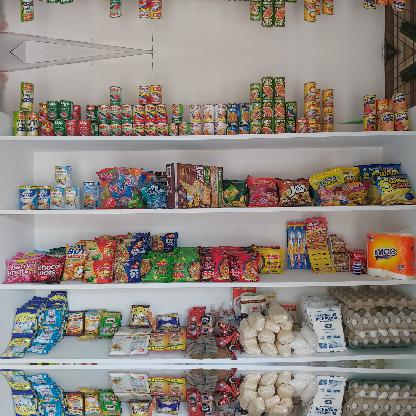Koko-Krunch: (166, 162, 224, 208)
